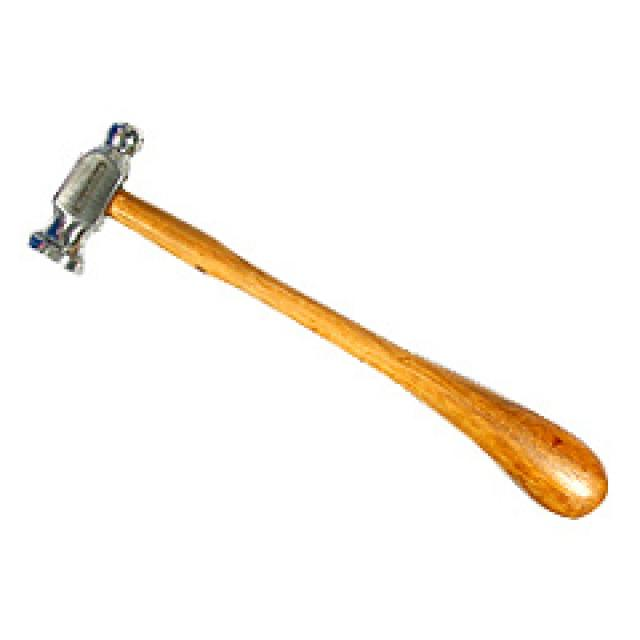hammer: (24, 78, 379, 374)
